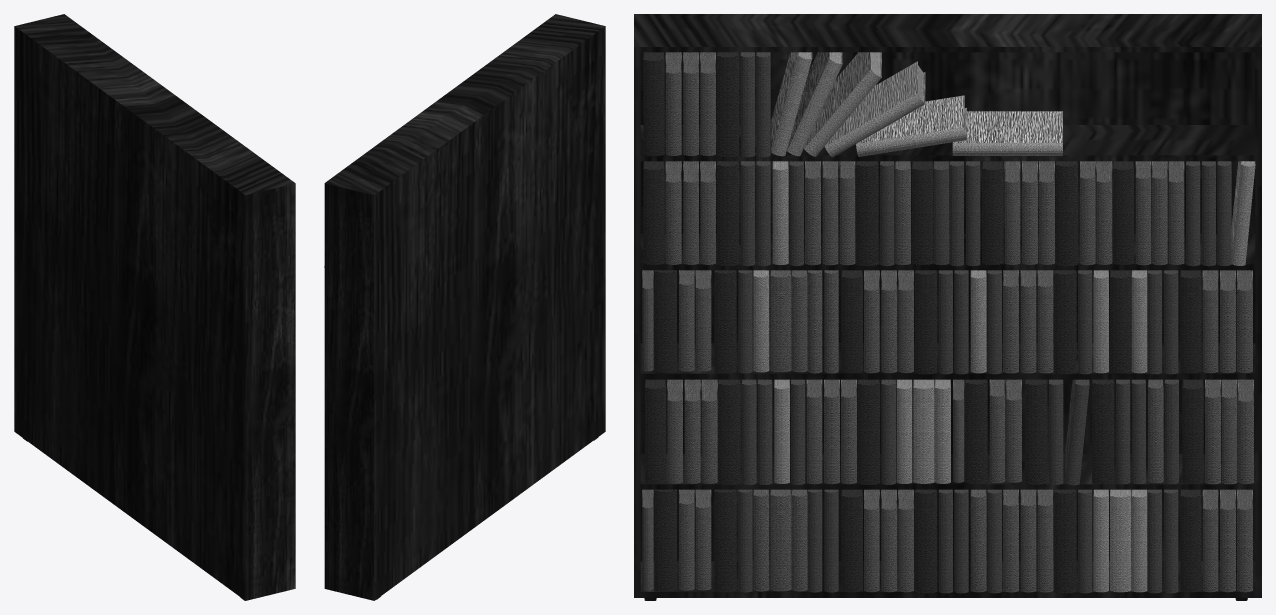
File: EstanteCheia(agr sim).fbx
The picture shows the model from 3 angles, left to right: view 1: azimuth 30°, elevation 25°; view 2: azimuth 150°, elevation 25°; view 3: azimuth 270°, elevation 25°; orthographic projection. The views are drawn at different scales.
Visible parts, largest first — view 1: Cube.001; view 2: Cube.001; view 3: Cube.001, Livro.114, Livro.004, Livro.104, Livro.012.
Part boxes in pixels (bbox=[...]): Cube.001: bbox=[14, 14, 295, 600]; Cube.001: bbox=[324, 14, 605, 600]; Cube.001: bbox=[634, 14, 1261, 600]; Livro.114: bbox=[642, 52, 1253, 592]; Livro.004: bbox=[643, 52, 1203, 593]; Livro.104: bbox=[738, 52, 1231, 593]; Livro.012: bbox=[753, 52, 1255, 592].
Bounding box in the file's own units: 120 × 871 × 891.
